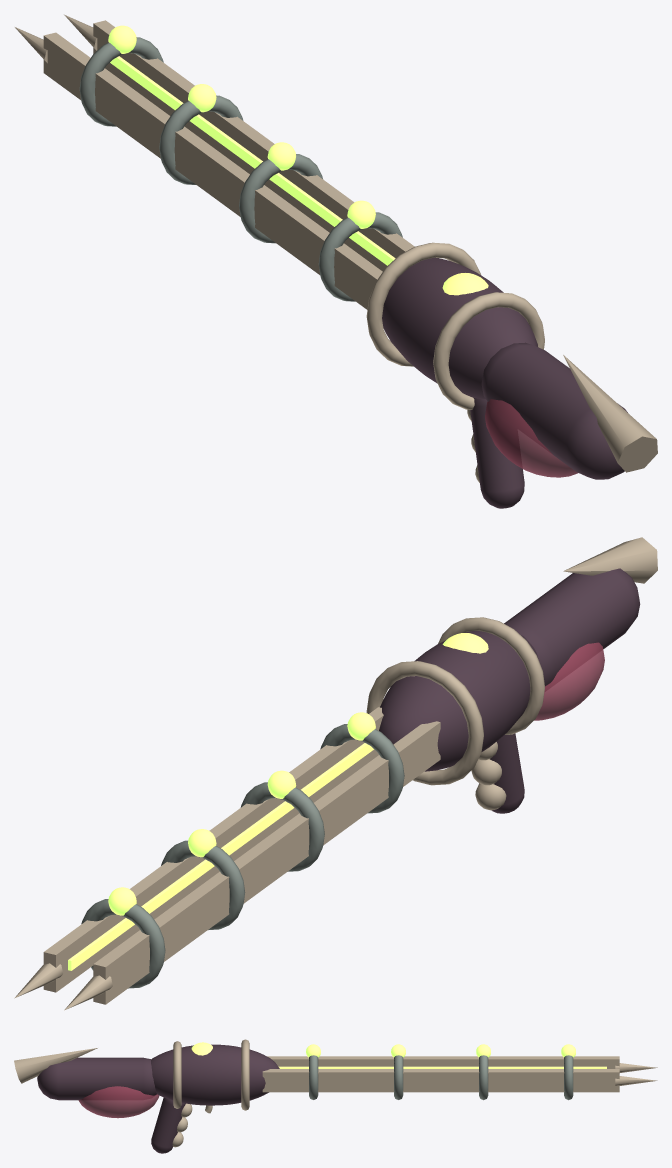
File: grafted-brood-rail_lance.glb
The picture shows the model from 3 angles, top to bottom: view 1: azimuth 30°, elevation 25°; view 2: azimuth 150°, elevation 25°; view 3: azimuth 270°, elevation 25°; orthographic projection. The views are drawn at different scales.
Parts seen in each view (by area): view 1: rail_l, receiver_shell, stock_shell, rail_r, receiver, cheek_spur, rail_vein_r, marrow_sac, grip_shaft, rail_clamp_1, rail_clamp_4, rail_clamp_3 (+2 smaller); view 2: rail_l, receiver_shell, rail_r, stock_shell, receiver, rail_vein_r, marrow_sac, cheek_spur, rail_clamp_4, rail_clamp_1, rail_clamp_2, rail_clamp_3 (+1 smaller); view 3: rail_r, receiver_shell, stock_shell, rail_l, marrow_sac, receiver, grip_shaft, cheek_spur, rail_vein_l, rail_clamp_4, rail_clamp_1, rail_clamp_3 (+4 smaller).
Boxes of the visible parts, x1,y1,x2,y2 form: rail_l: (43,32,382,309); receiver_shell: (382,257,537,399); stock_shell: (481,342,627,479); rail_r: (93,20,414,271); receiver: (366,242,544,409); cheek_spur: (563,355,657,472); rail_vein_r: (110,56,395,265); marrow_sac: (485,399,577,477); grip_shaft: (470,397,524,508); rail_clamp_1: (318,212,402,301); rail_clamp_4: (79,37,163,126); rail_clamp_3: (159,95,243,184); rail_l: (93,721,440,1004); receiver_shell: (379,631,538,771); rail_r: (43,707,383,992); stock_shell: (504,568,640,686); receiver: (366,617,544,785); rail_vein_r: (68,743,373,970); marrow_sac: (534,642,604,720); cheek_spur: (563,537,657,583); rail_clamp_4: (81,899,165,988); rail_clamp_1: (320,724,404,813); rail_clamp_2: (240,782,324,871); rail_clamp_3: (161,840,245,930); rail_r: (262,1069,619,1092); receiver_shell: (151,1044,279,1105); stock_shell: (37,1057,156,1100); rail_l: (267,1056,619,1068); marrow_sac: (78,1086,159,1118); receiver: (173,1039,249,1110); grip_shaft: (151,1097,185,1153); cheek_spur: (14,1048,97,1083); rail_vein_l: (278,1066,606,1068); rail_clamp_4: (564,1055,573,1100); rail_clamp_1: (309,1055,318,1099); rail_clamp_3: (479,1055,488,1100).
Size of the model in its own units: 0.168 by 0.2841 by 1.51.
